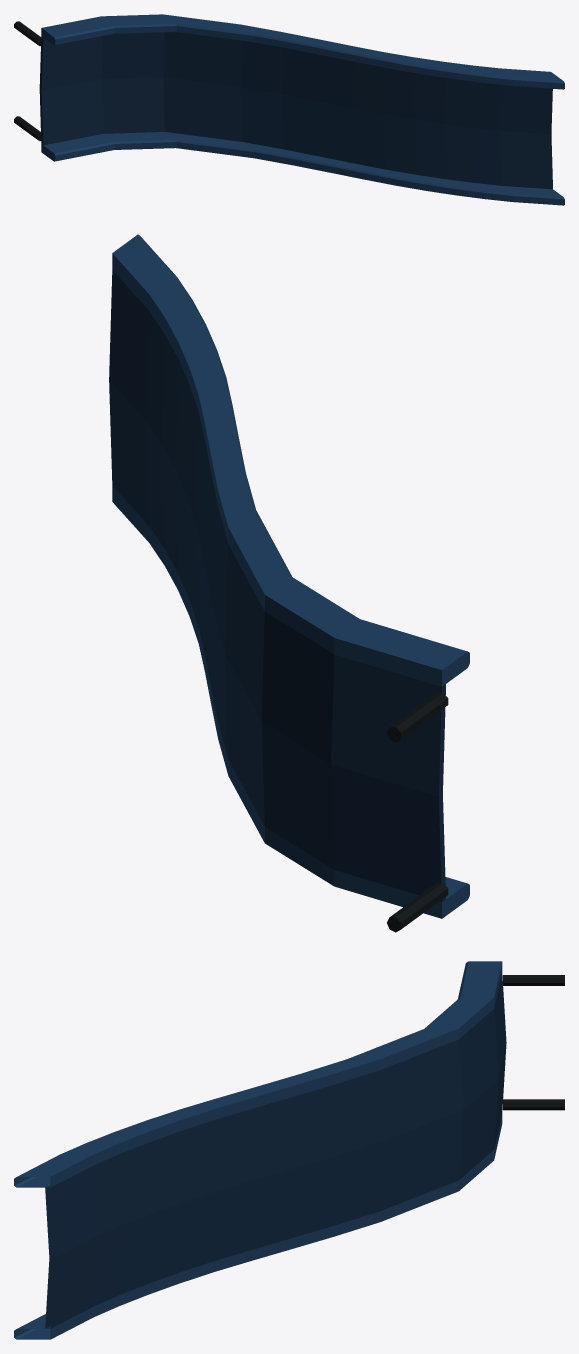
3 views of the same model, one above another, from view 1: azimuth 30°, elevation 25°; view 2: azimuth 150°, elevation 25°; view 3: azimuth 270°, elevation 25° (orthographic). The views are drawn at different scales.
Bounding box in the file's own units: 1.46 × 0.508 × 1.56.
